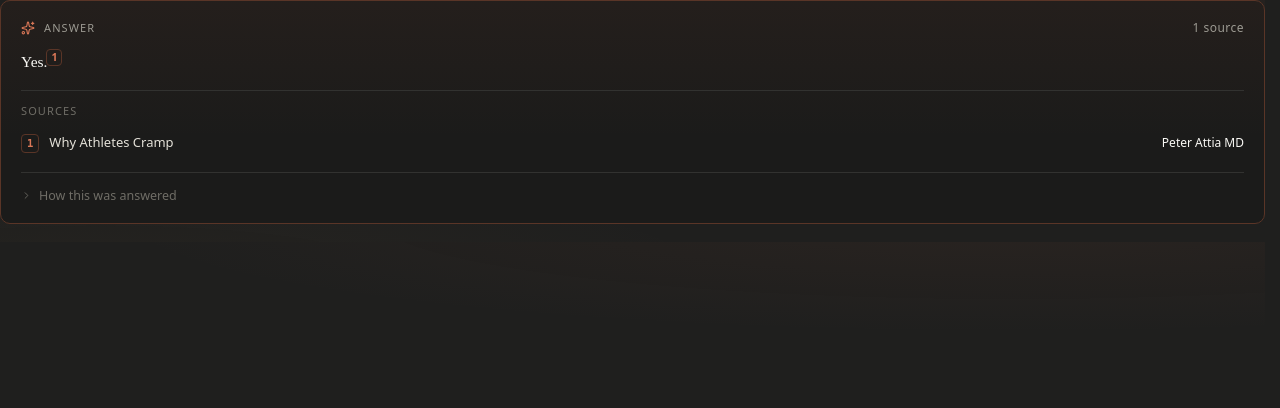
Scenario: AnswerPanel trace › shows an unknown step rather than hiding it
Click the button "How this was answered" at {"x": 99, "y": 196}, box [21, 187, 177, 205]
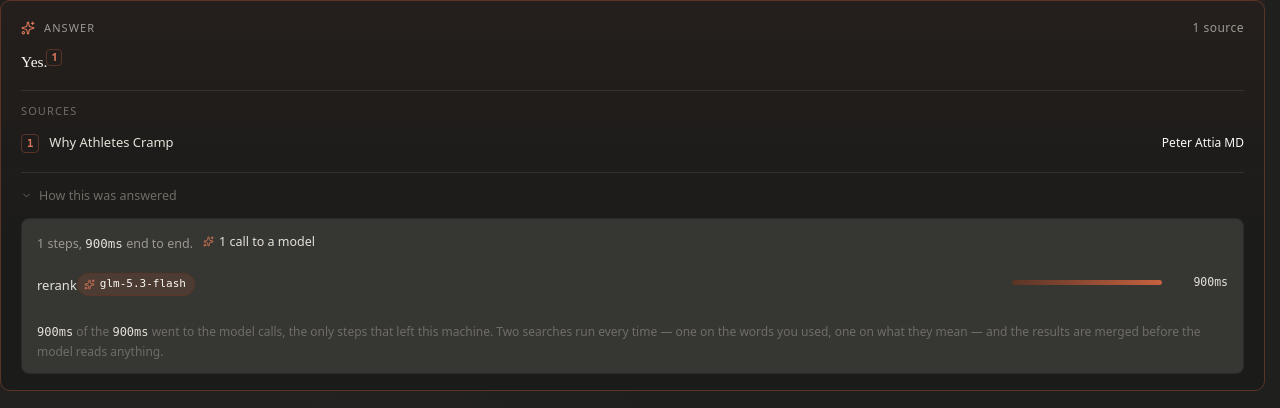
Result: the element with class "trace-row" shows "rerank" at [37, 276, 77, 294]
